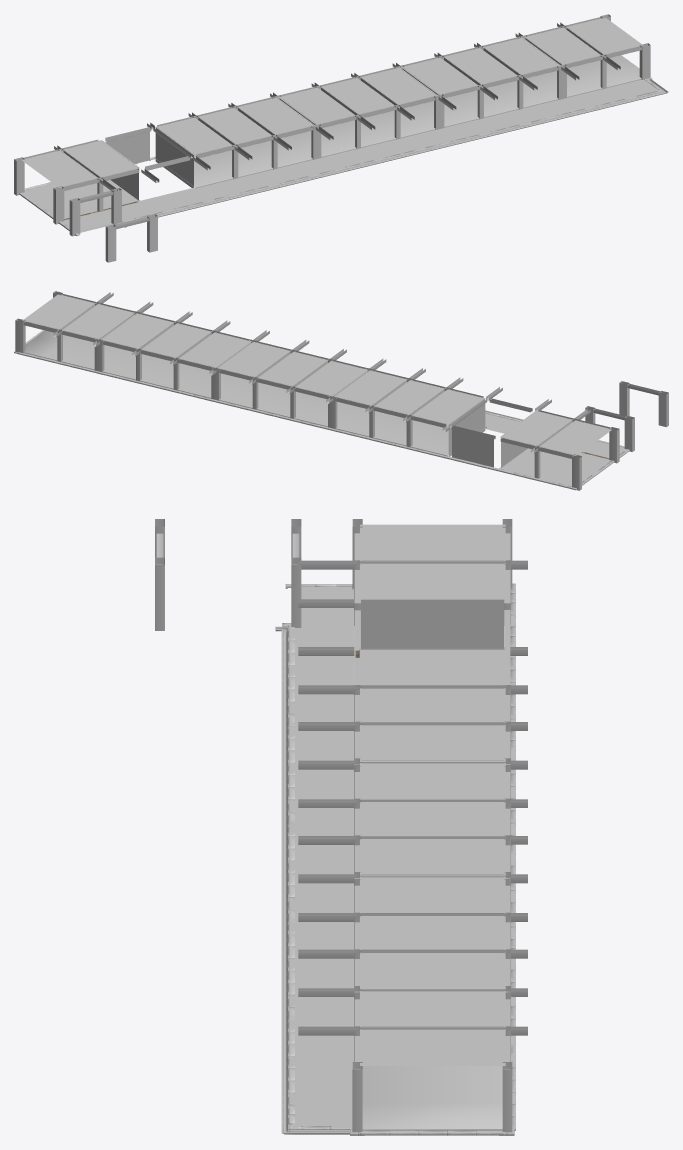
Rendered from groundfloor.FBX.
3 renders of one model, top to bottom at view 1: azimuth 30°, elevation 25°; view 2: azimuth 150°, elevation 25°; view 3: azimuth 270°, elevation 25°, orthographic. The views are drawn at different scales.
Parts seen in each view (by area): view 1: canteenTiles, 333_corridor_floor009, 333_pillar_039, groundfloor1, walkwayPillar002, 333_floor_class_006, 333_ceiling_025, 333_ceiling_022, 333_ceiling_028, 333_ceiling_018, 333_ceiling_023, 333_ceiling_029 (+12 smaller); view 2: canteenTiles, 333_pillar_039, groundfloor1, walkwayPillar002, 333_floor_class_006, 333_ceiling_025, 333_ceiling_028, 333_ceiling_022, 333_ceiling_029, 333_ceiling_023, 333_ceiling_020, 333_ceiling_018 (+11 smaller); view 3: 333_corridor_floor009, 333_pillar_039, groundfloor1, canteenTiles, 333_ceiling_018, 333_ceiling_025, 333_ceiling_023, 333_ceiling_019, 333_ceiling_028, 333_ceiling_026, 333_ceiling_022, 333_ceiling_020 (+11 smaller).
Boxes of the visible parts, <box> form: canteenTiles: <box>154,55,641,188</box>; 333_corridor_floor009: <box>142,99,578,212</box>; 333_pillar_039: <box>22,17,641,190</box>; groundfloor1: <box>58,25,606,220</box>; walkwayPillar002: <box>14,157,157,262</box>; 333_floor_class_006: <box>23,180,139,218</box>; 333_ceiling_025: <box>483,37,560,75</box>; 333_ceiling_022: <box>237,97,314,134</box>; 333_ceiling_028: <box>360,67,437,104</box>; 333_ceiling_018: <box>21,150,98,187</box>; 333_ceiling_023: <box>401,57,478,95</box>; 333_ceiling_029: <box>566,17,642,54</box>; canteenTiles: <box>23,330,486,456</box>; 333_pillar_039: <box>23,294,611,458</box>; groundfloor1: <box>57,302,609,478</box>; walkwayPillar002: <box>572,381,668,490</box>; 333_floor_class_006: <box>499,448,610,486</box>; 333_ceiling_025: <box>101,313,174,348</box>; 333_ceiling_028: <box>217,341,290,377</box>; 333_ceiling_022: <box>334,370,406,405</box>; 333_ceiling_029: <box>22,294,95,329</box>; 333_ceiling_023: <box>179,332,251,367</box>; 333_ceiling_020: <box>412,389,484,424</box>; 333_ceiling_018: <box>539,420,611,455</box>; 333_corridor_floor009: <box>295,663,354,1052</box>; 333_pillar_039: <box>298,533,527,1069</box>; groundfloor1: <box>354,560,510,1061</box>; canteenTiles: <box>362,1066,502,1130</box>; 333_ceiling_018: <box>360,524,505,561</box>; 333_ceiling_025: <box>360,952,505,989</box>; 333_ceiling_023: <box>360,876,505,913</box>; 333_ceiling_019: <box>360,563,505,599</box>; 333_ceiling_028: <box>360,839,505,875</box>; 333_ceiling_026: <box>360,763,505,799</box>; 333_ceiling_022: <box>360,725,505,761</box>; 333_ceiling_020: <box>360,649,505,685</box>.
Bounding box in the file's own units: 5884 × 331 × 1681.
